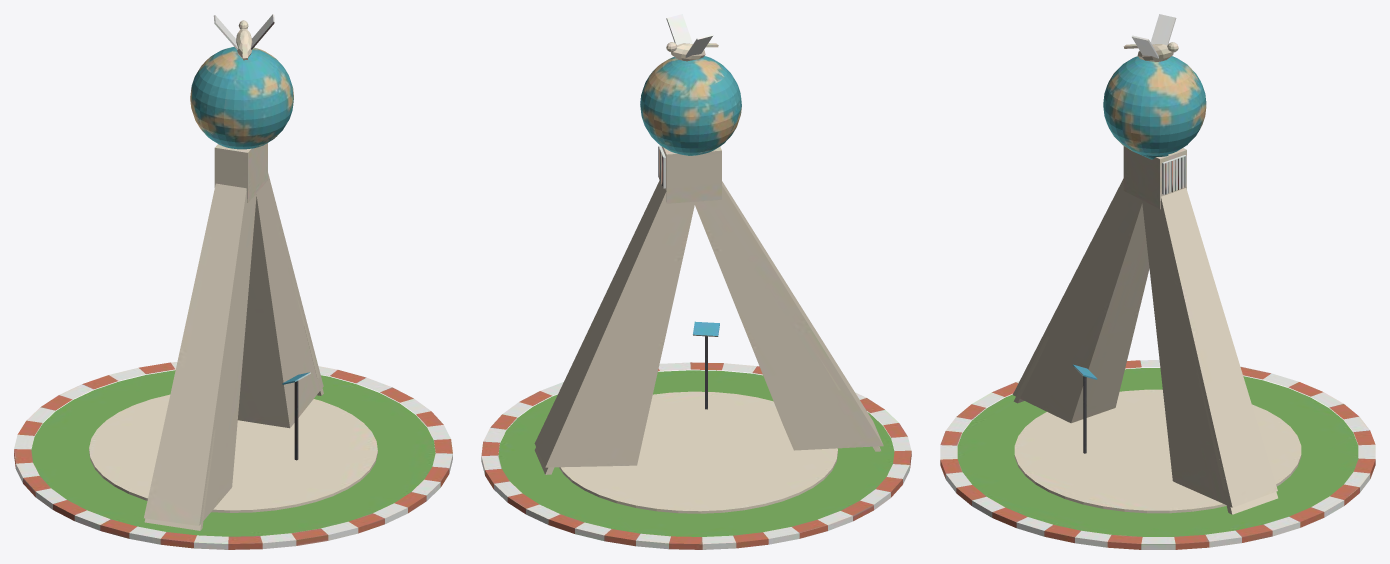
File: lm_monument_paix.glb
3 views of the same model, side by side, from view 1: azimuth 30°, elevation 25°; view 2: azimuth 150°, elevation 25°; view 3: azimuth 270°, elevation 25° (orthographic). The views are drawn at different scales.
Visible parts, largest first — view 1: LM_Monument_Paix; view 2: LM_Monument_Paix; view 3: LM_Monument_Paix.
Boxes of the visible parts, x1,y1,x2,y2 form: LM_Monument_Paix: (14,14,452,549); LM_Monument_Paix: (481,14,911,549); LM_Monument_Paix: (940,14,1375,549).
Size of the model in its own units: 0.3166 by 0.35 by 0.3166.
1 material, 1 textured.
